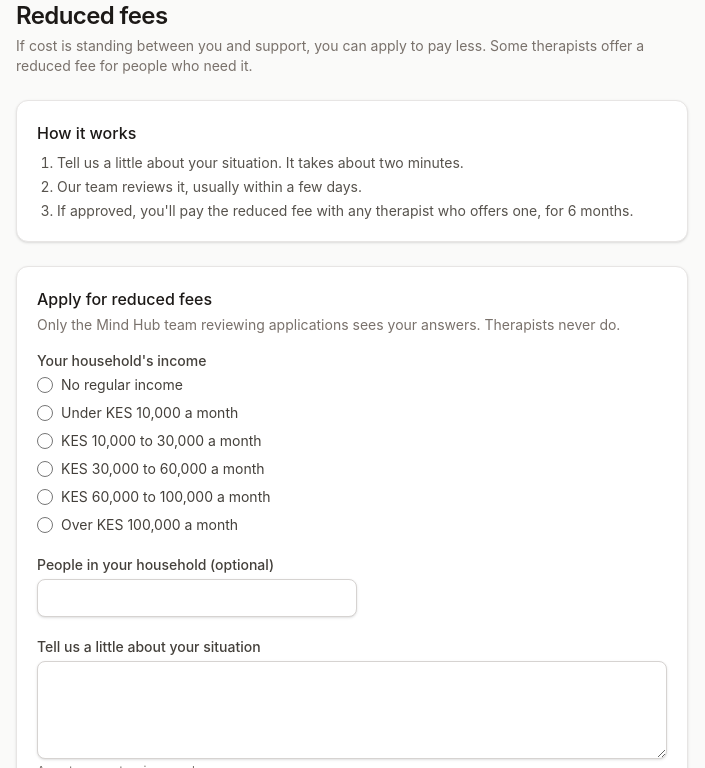
ReducedFeesPage › asks for an income band before sending
Type "Struggling with school fees this term." into the text box labelled "Tell us a little about your situation" at (352, 710), box [37,661,667,759]
(page scrolled)
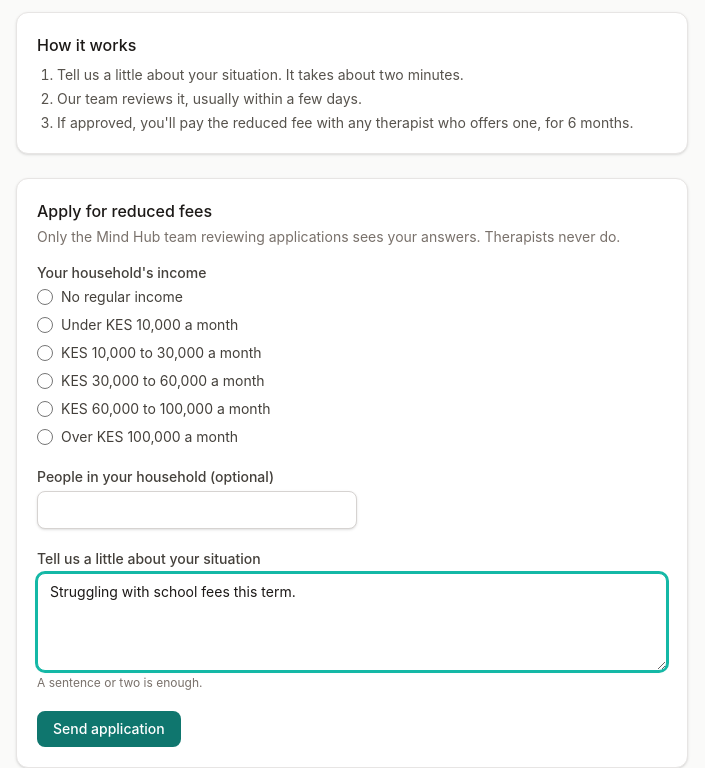
Click the button "Send application" at (109, 729), box [37,711,181,747]
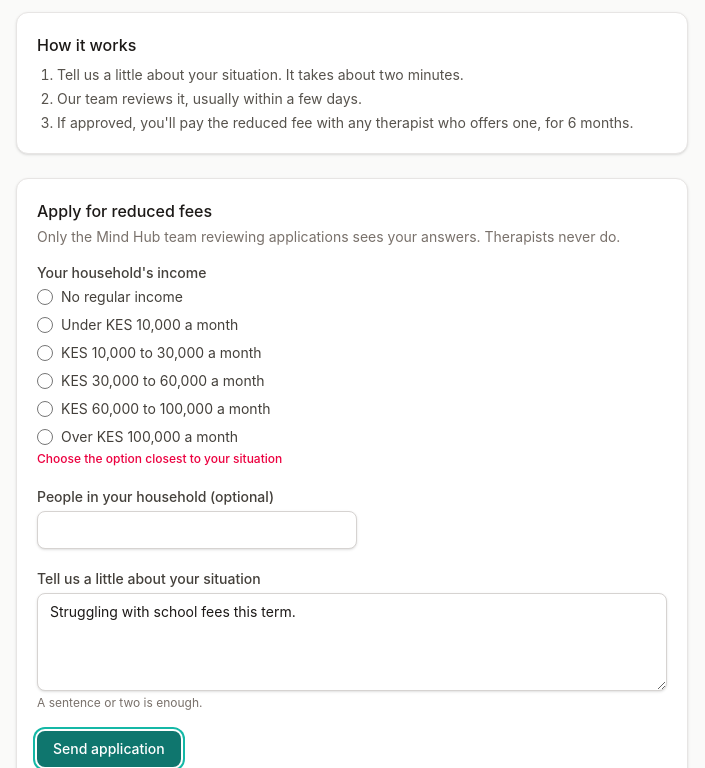
Check: the text "Choose the option closest to your situation" is shown, box [37,451,282,466]
